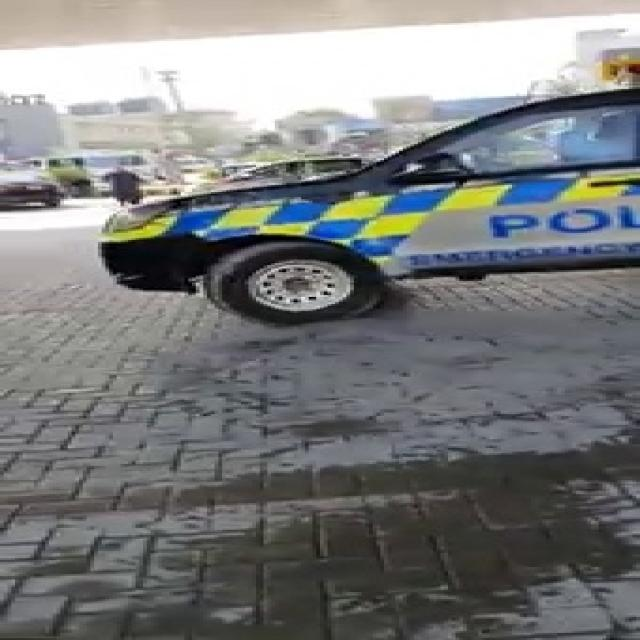police: (68, 50, 640, 309)
